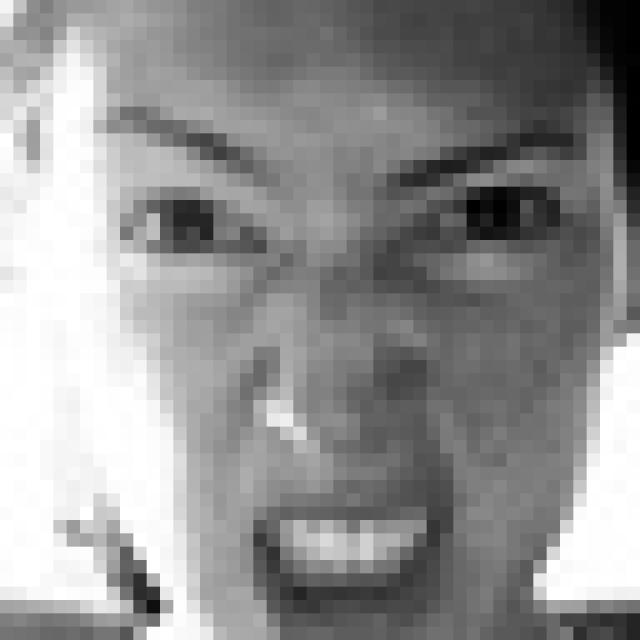angry: (93, 110, 588, 632)
